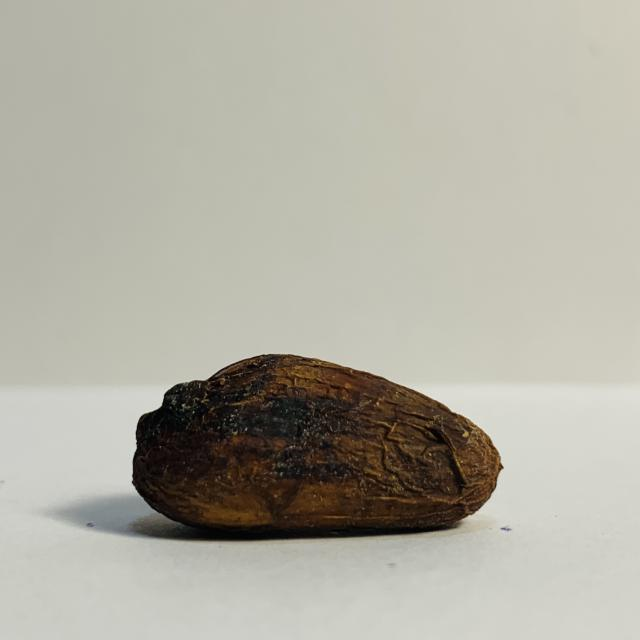Fine_cocoabeans: (33, 295, 542, 584)
